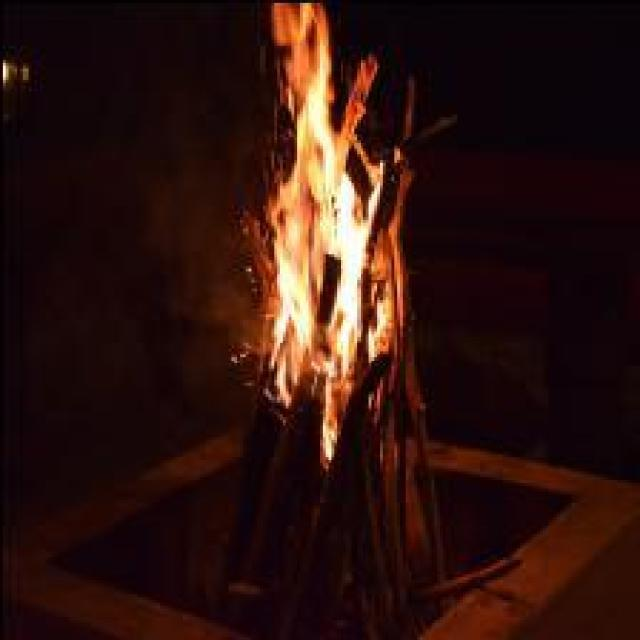Fire: (267, 0, 382, 392)
